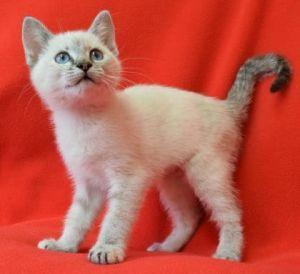siamese: (18, 8, 129, 118)
